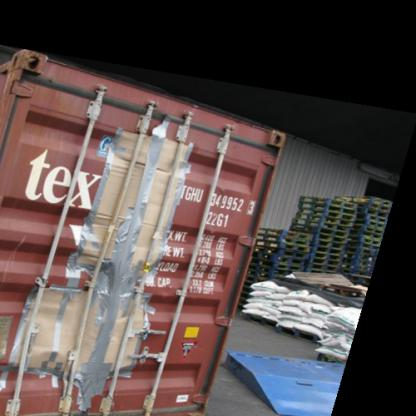Damage: (46, 123, 194, 415)
